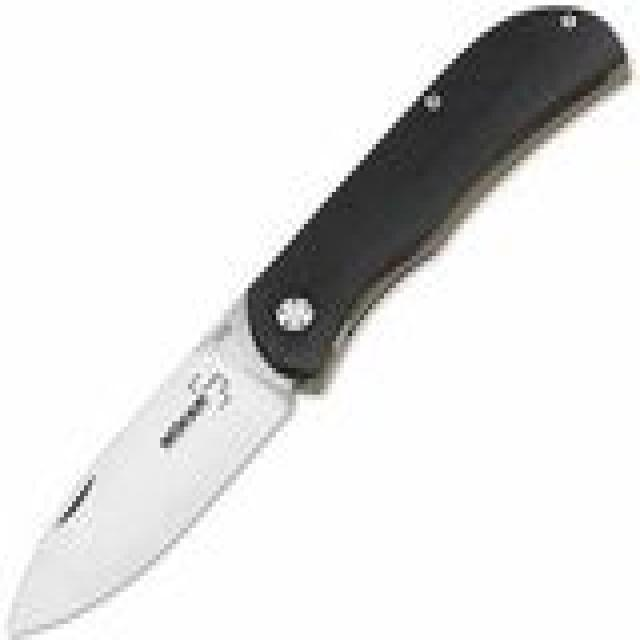Knife: (6, 10, 628, 640)
